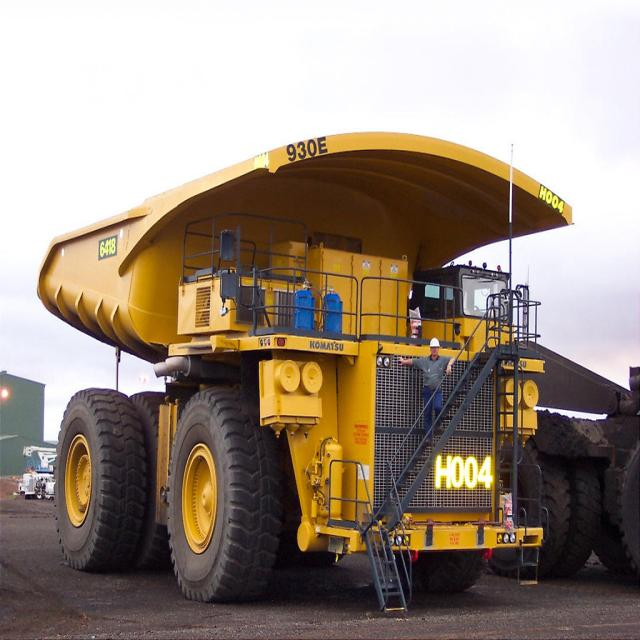dump_truck: (38, 122, 543, 612)
